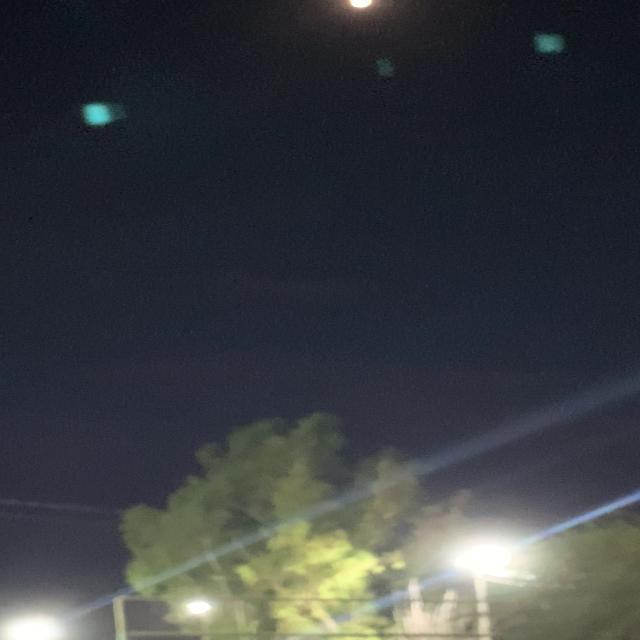moon: (332, 1, 396, 34)
